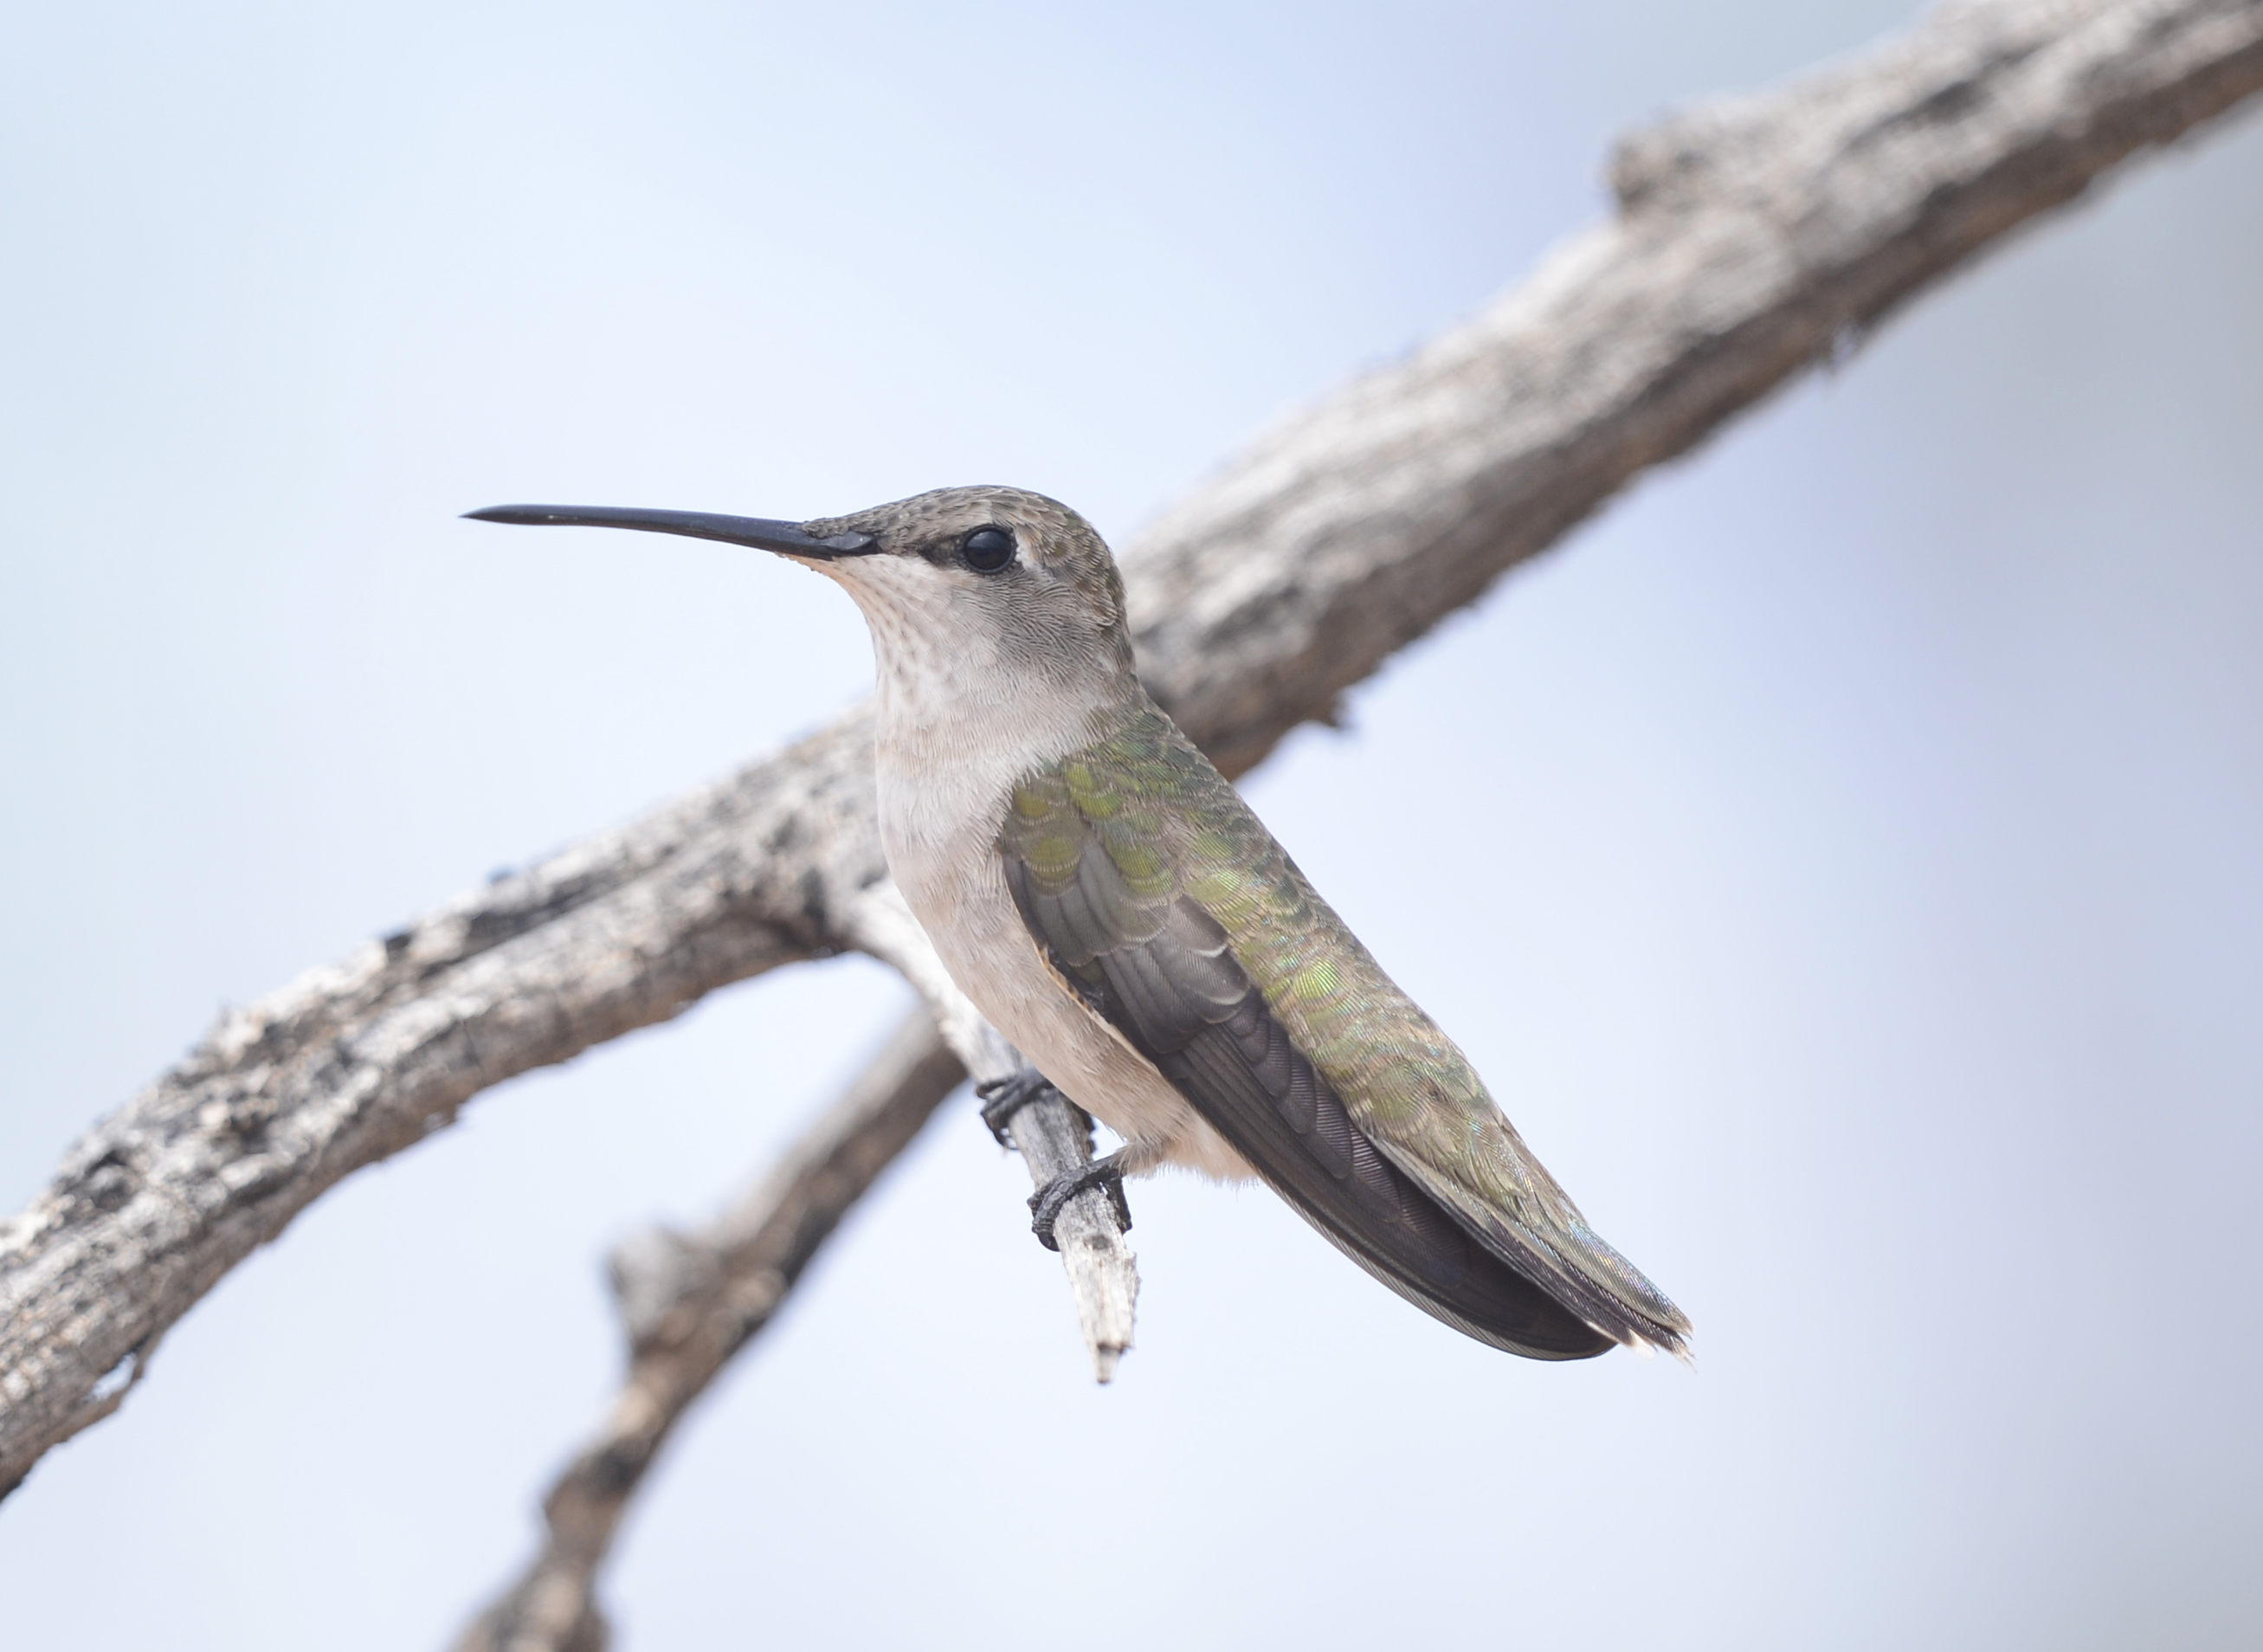archilochus alexandri: (466, 487, 1695, 1373)
